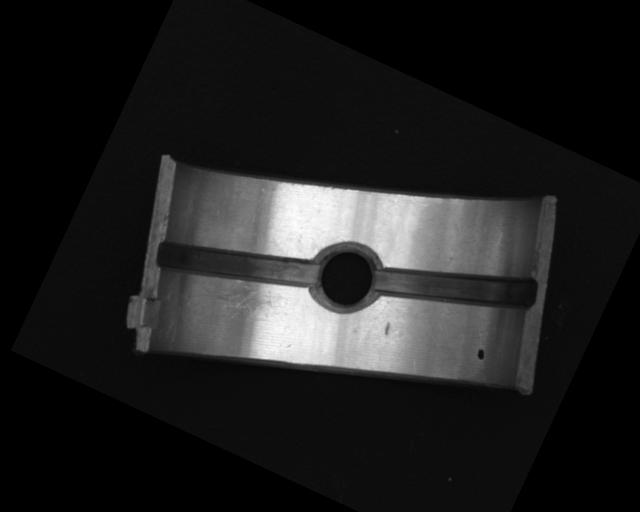blot: (473, 346, 488, 362)
bruise: (381, 321, 393, 336)
gap: (370, 220, 542, 352), (150, 200, 322, 329)
hole: (303, 234, 391, 322)
scratch: (191, 261, 287, 338)
